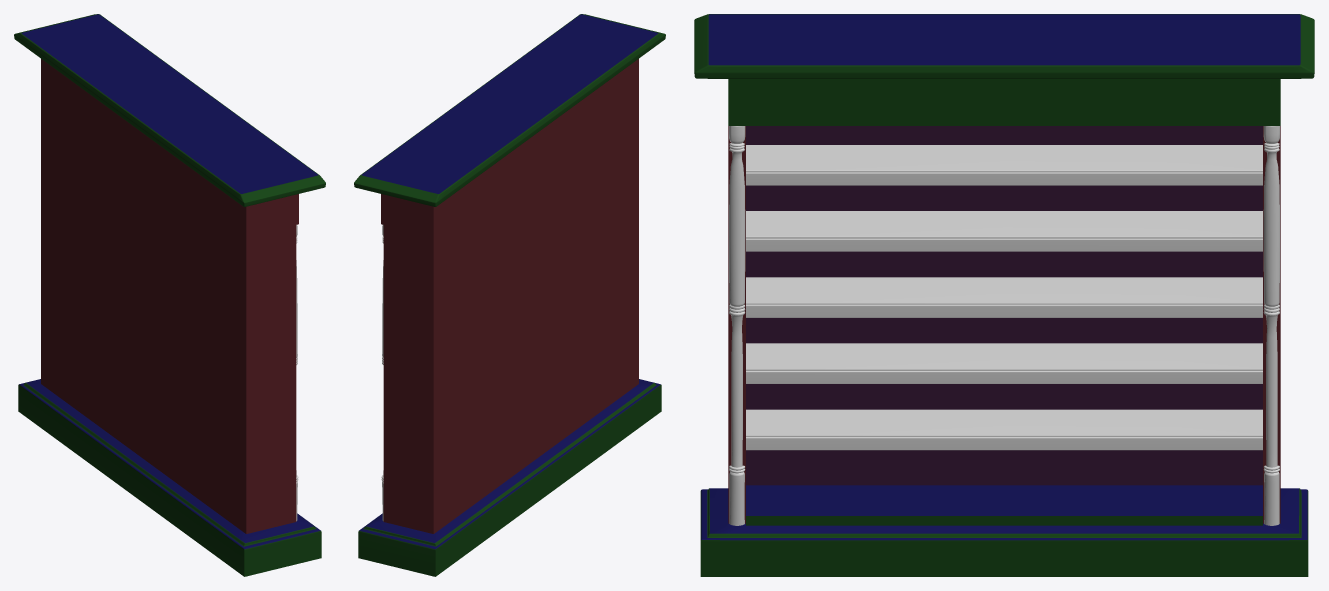
File: Book Shelves.fbx
The picture shows the model from 3 angles, left to right: view 1: azimuth 30°, elevation 25°; view 2: azimuth 150°, elevation 25°; view 3: azimuth 270°, elevation 25°; orthographic projection. The views are drawn at different scales.
Parts seen in each view (by area): view 1: Body_BookShelf; view 2: Body_BookShelf; view 3: Body_BookShelf, Shelf5, Shelf1, Shelf2, Shelf3, Shelf4, Wood_Pole, Wood_Pole1.
Part boxes in pixels (bbox=[...]): Body_BookShelf: bbox=[14, 14, 325, 576]; Body_BookShelf: bbox=[354, 14, 665, 576]; Body_BookShelf: bbox=[694, 14, 1314, 576]; Shelf5: bbox=[746, 409, 1262, 450]; Shelf1: bbox=[746, 145, 1262, 185]; Shelf2: bbox=[746, 211, 1262, 251]; Shelf3: bbox=[746, 277, 1262, 317]; Shelf4: bbox=[746, 343, 1262, 383]; Wood_Pole: bbox=[729, 126, 745, 525]; Wood_Pole1: bbox=[1263, 126, 1279, 525].
Size of the model in its own units: 1.57 by 6.92 by 7.6.
